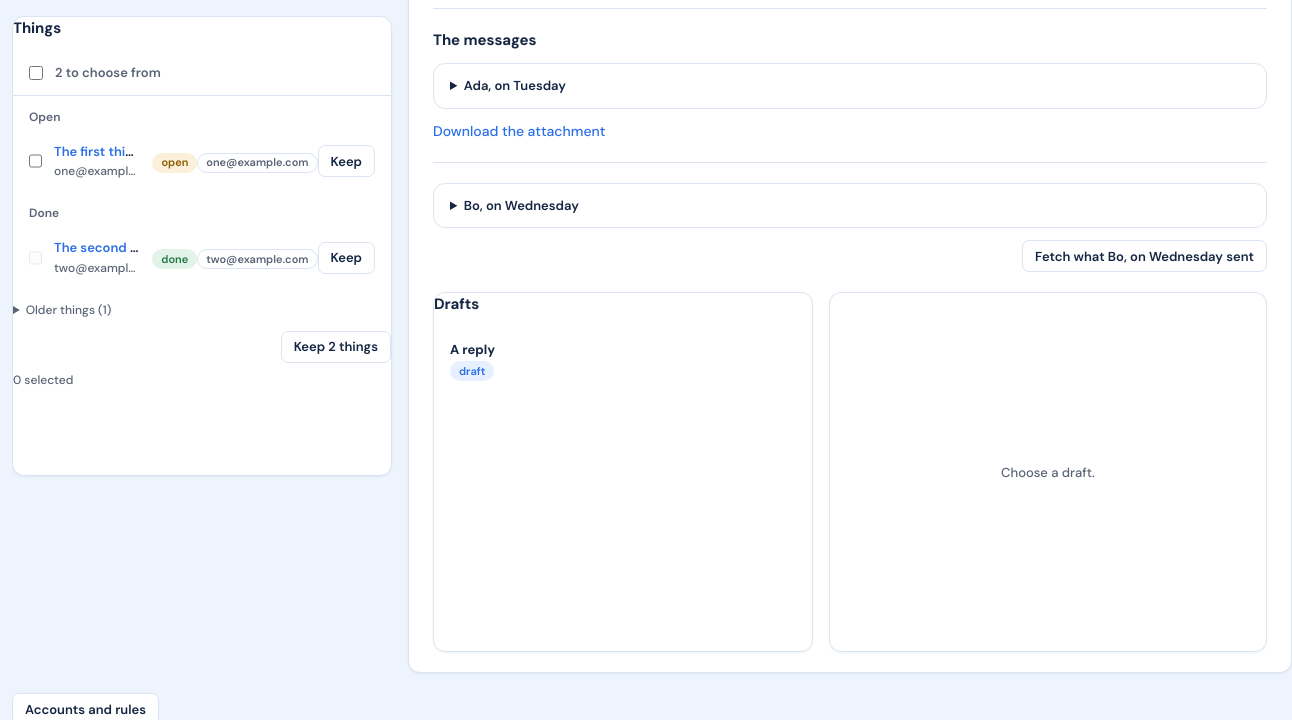
Test: the pieces a descriptor is made of › draws an editor the data says is a record: no fields to type in, and no buttons
The width and height of the screenshot is (1292, 720).
(page scrolled)
Click the link "A reply draft": click(473, 361) [450,341,495,382]
(page scrolled)
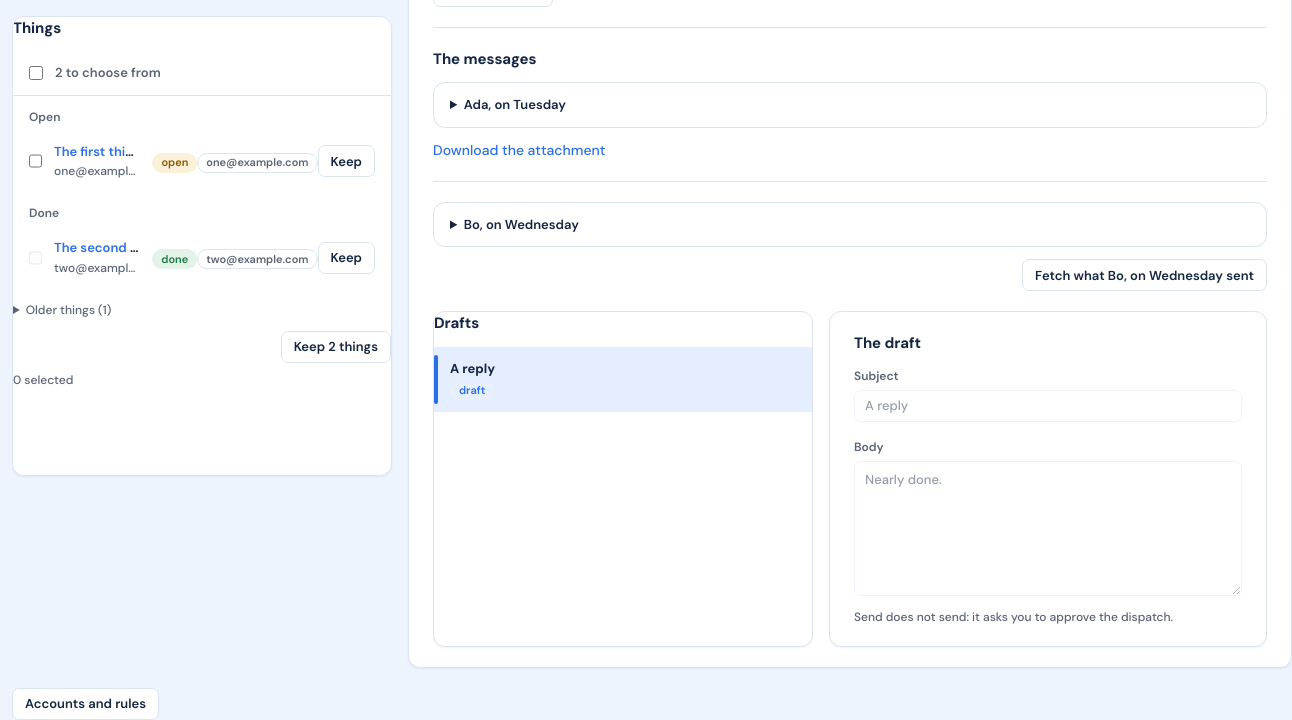
Expected: the field labelled "Subject" is disabled, [854,390,1242,422]
Expected: the text "Send does not send: it asks you to approve the dispatch." is shown, [854,609,1173,625]
